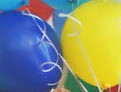Balloon: (60, 1, 121, 89), (1, 12, 61, 92)
